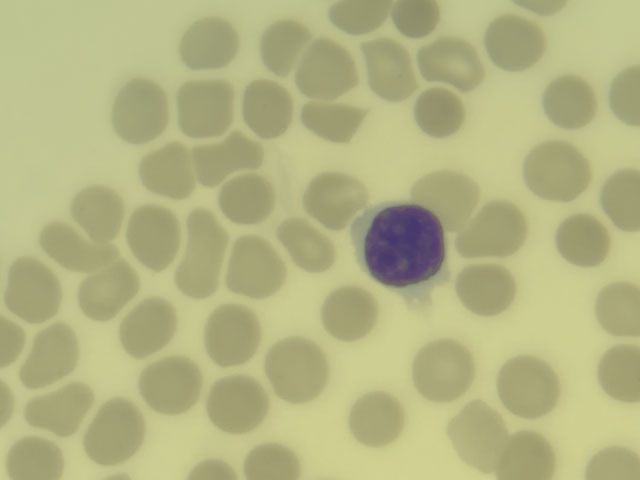RBC: (111, 75, 167, 145), (414, 340, 475, 402), (499, 355, 560, 416), (271, 337, 327, 402), (523, 146, 590, 199), (184, 211, 224, 299), (138, 361, 203, 414), (232, 237, 281, 301), (457, 264, 517, 316), (211, 377, 267, 432), (450, 407, 505, 463), (7, 259, 62, 313), (90, 405, 145, 459), (76, 262, 132, 315), (24, 389, 89, 434), (462, 211, 526, 256), (75, 184, 124, 242), (300, 178, 365, 221), (320, 291, 380, 337), (490, 20, 545, 70), (179, 19, 236, 67), (285, 221, 335, 275), (545, 77, 595, 130), (181, 83, 235, 132), (349, 395, 403, 443), (415, 174, 481, 213), (27, 330, 81, 377), (205, 316, 260, 362), (132, 212, 174, 272), (366, 45, 414, 97), (301, 105, 371, 140), (119, 307, 175, 350), (219, 181, 278, 221), (417, 89, 466, 137), (248, 83, 294, 134), (424, 43, 484, 82), (40, 231, 100, 270), (579, 440, 640, 477), (143, 152, 194, 196), (594, 286, 640, 334), (509, 432, 555, 480), (304, 50, 354, 94), (561, 217, 603, 267), (604, 174, 640, 232), (200, 144, 264, 175), (9, 441, 62, 475), (239, 448, 299, 478), (605, 349, 639, 397), (330, 5, 390, 32), (267, 25, 299, 69), (613, 69, 640, 119), (400, 4, 439, 34), (1, 321, 21, 366), (187, 462, 230, 480), (513, 1, 567, 10), (1, 386, 13, 426)
WBC: (360, 207, 438, 289)
